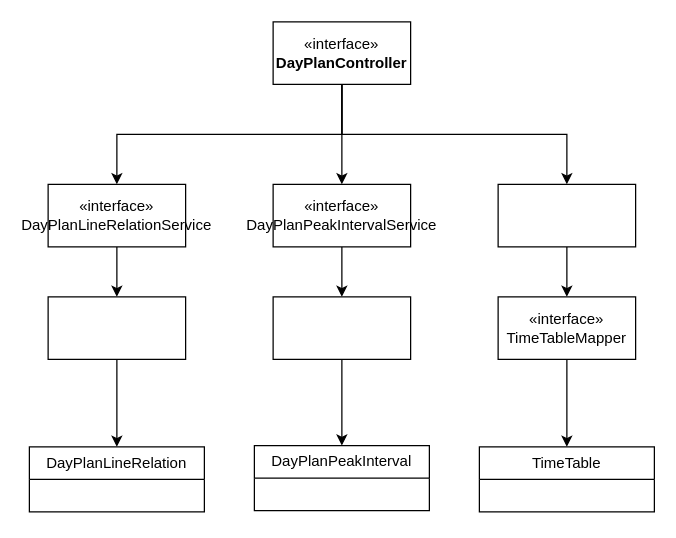
Image size: 676x538. Some labels were removed from this diagram. The shapes that lost their labels are listed below. From the top down, each one's centre as x and y in pixels, then its label:
point (566, 215): «interface» TimeTableService
point (116, 327): «interface» DayPlanLineRelationMapper
point (341, 327): «interface» DayPlanPeakIntervalMapper
